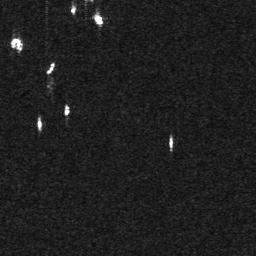ship: (46, 60, 56, 75), (168, 135, 175, 150), (37, 117, 44, 131), (64, 103, 71, 116)
